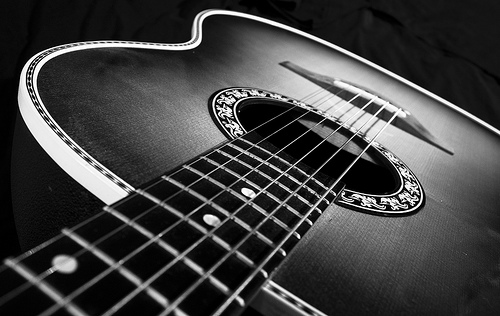guitar: (1, 6, 499, 316)
